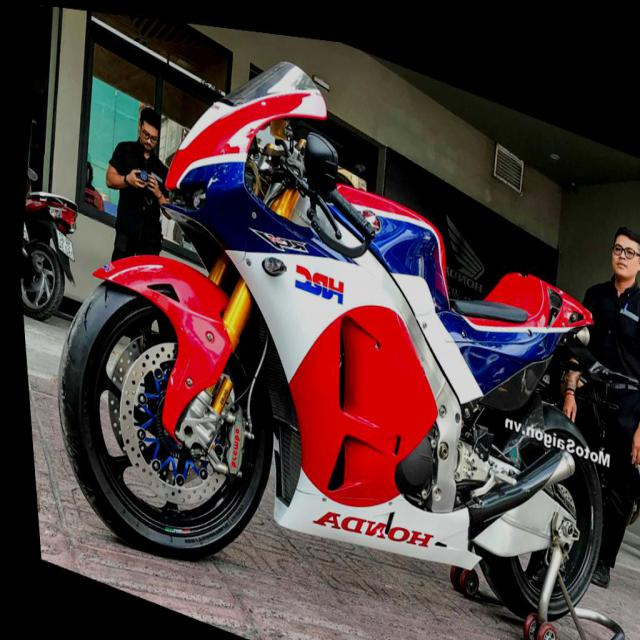HRC RCV 213: (11, 1, 640, 639)
